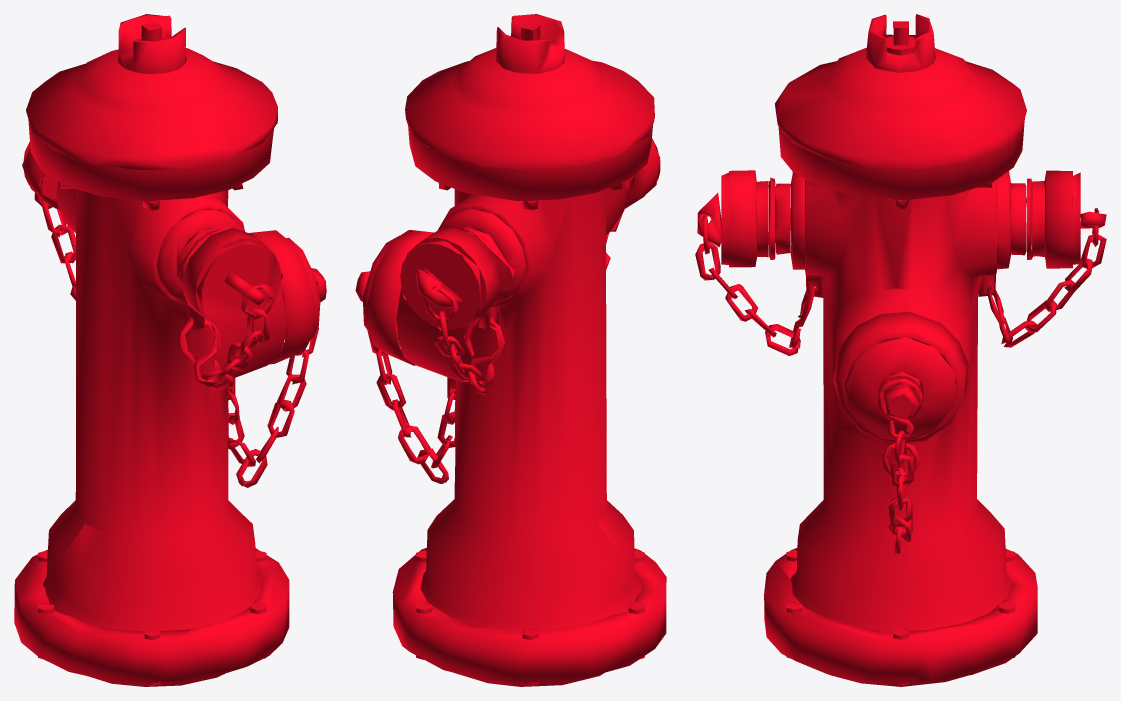
File: fireMoisturizer.glb
3 renders of one model, left to right at view 1: azimuth 30°, elevation 25°; view 2: azimuth 150°, elevation 25°; view 3: azimuth 270°, elevation 25°, orthographic.
Visible parts, largest first — view 1: FireMoisturizer; view 2: FireMoisturizer; view 3: FireMoisturizer.
Part boxes in pixels (bbox=[...]): FireMoisturizer: bbox=[14, 14, 326, 686]; FireMoisturizer: bbox=[355, 14, 666, 686]; FireMoisturizer: bbox=[695, 14, 1106, 686].
Bounding box in the file's own units: 0.5699 × 1.17 × 0.7053.
